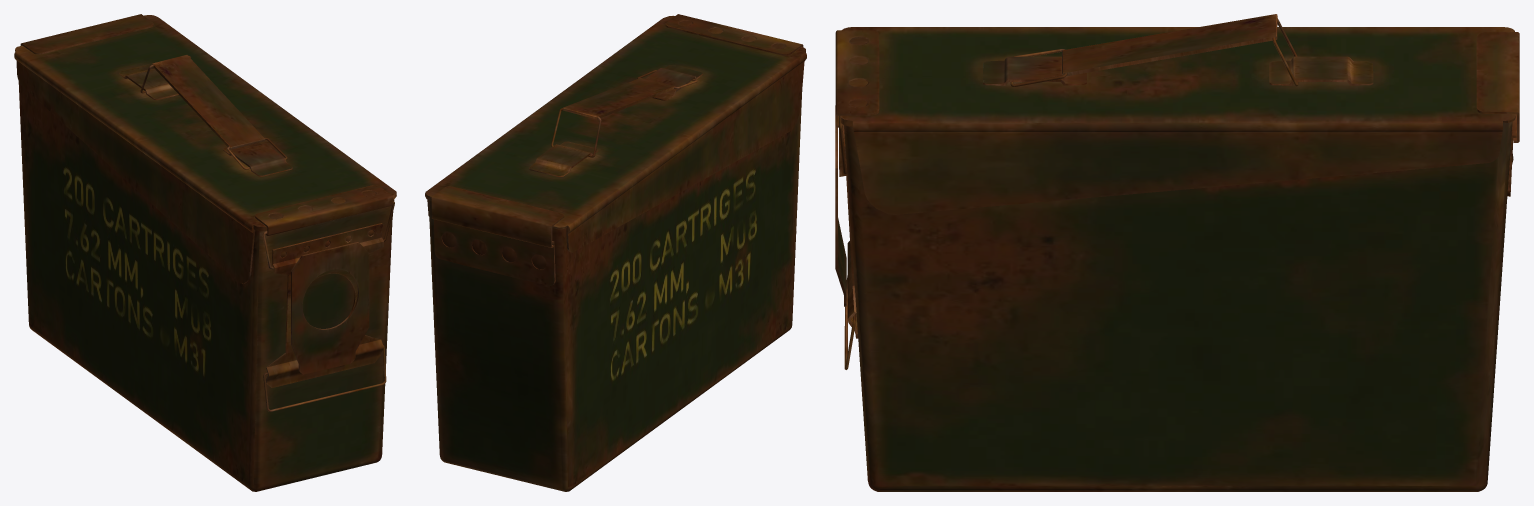
The model's file is ammo_box.glb.
The picture shows the model from 3 angles, left to right: view 1: azimuth 30°, elevation 25°; view 2: azimuth 150°, elevation 25°; view 3: azimuth 270°, elevation 25°; orthographic projection. The views are drawn at different scales.
Parts seen in each view (by area): view 1: ammo_box, ammo_box_handle, ammo_box_latch; view 2: ammo_box, ammo_box_handle; view 3: ammo_box, ammo_box_handle.
Boxes of the visible parts, bbox=[...] form: ammo_box: bbox=[14, 14, 396, 491]; ammo_box_handle: bbox=[152, 55, 265, 149]; ammo_box_latch: bbox=[263, 345, 386, 411]; ammo_box: bbox=[425, 14, 806, 491]; ammo_box_handle: bbox=[562, 78, 675, 119]; ammo_box: bbox=[835, 27, 1519, 491]; ammo_box_handle: bbox=[1062, 14, 1277, 76].
Bounding box in the file's own units: 0.0865 × 0.1773 × 0.2578.
Materials: 1 (1 with a texture image).
